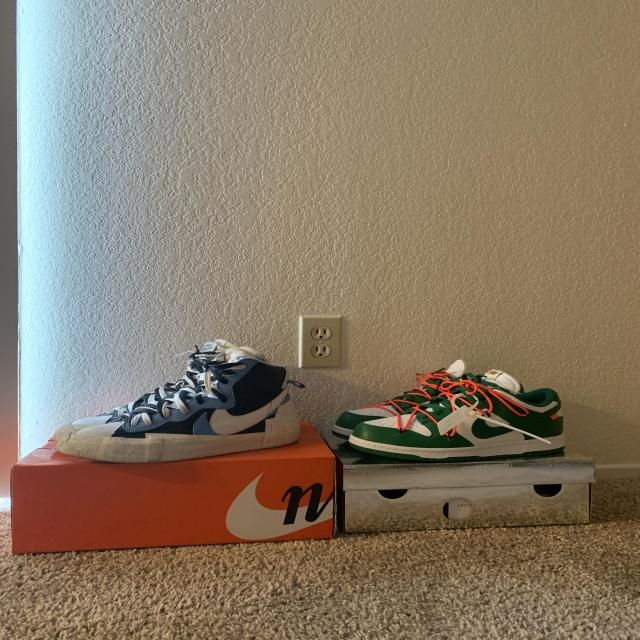shoe: (45, 333, 316, 470), (340, 362, 584, 475)
